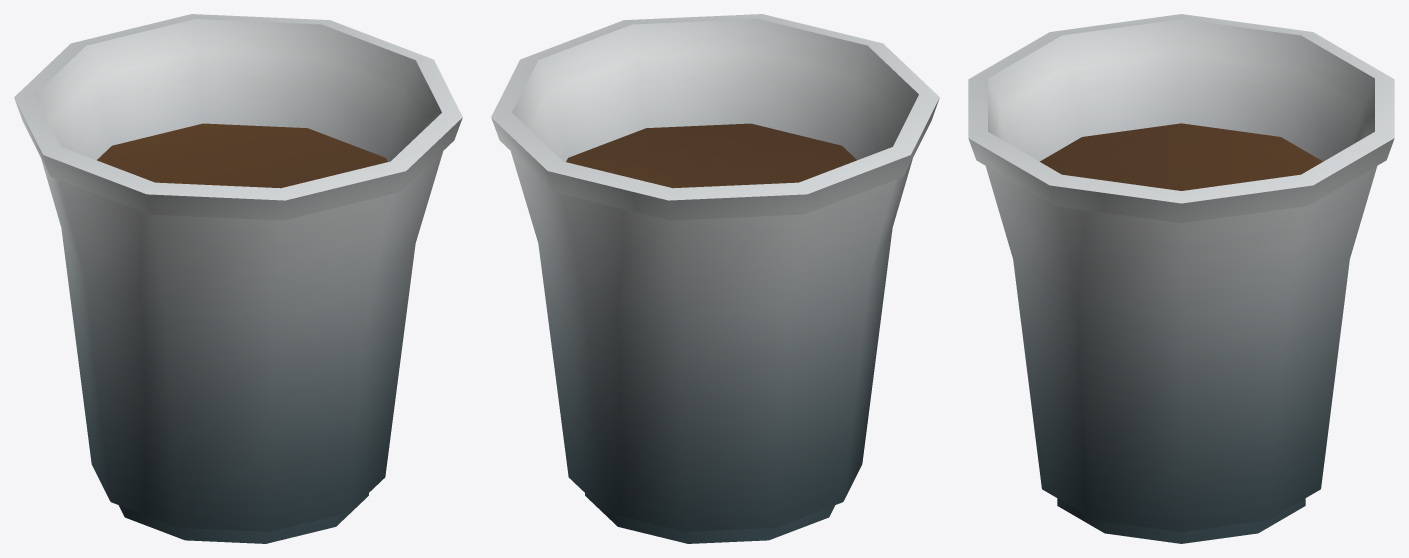
The model's file is PlantPotLargeC.fbx.
3 renders of one model, left to right at view 1: azimuth 30°, elevation 25°; view 2: azimuth 150°, elevation 25°; view 3: azimuth 270°, elevation 25°, orthographic.
Visible parts, largest first — view 1: PlantPotLargeC; view 2: PlantPotLargeC; view 3: PlantPotLargeC.
Boxes of the visible parts, x1,y1,x2,y2 form: PlantPotLargeC: (14, 14, 462, 543); PlantPotLargeC: (491, 14, 939, 543); PlantPotLargeC: (968, 14, 1394, 543).
Bounding box in the file's own units: 38.97 × 37.01 × 37.06.
